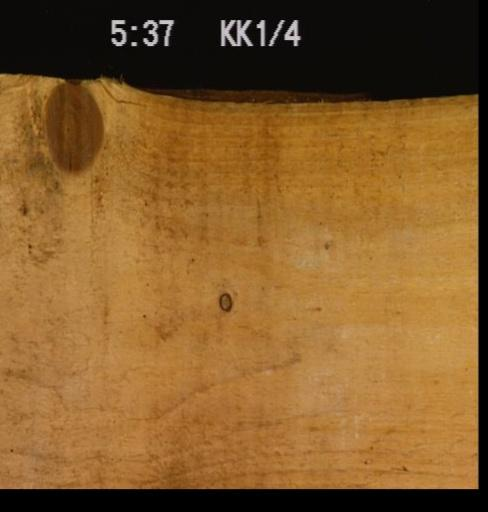dry_knot: (217, 291, 232, 312)
edge_knot: (42, 80, 103, 175)
wave: (143, 89, 368, 104)
